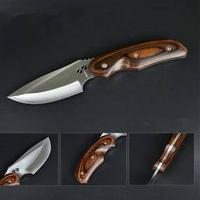knife: (3, 31, 187, 109), (3, 132, 52, 181)
